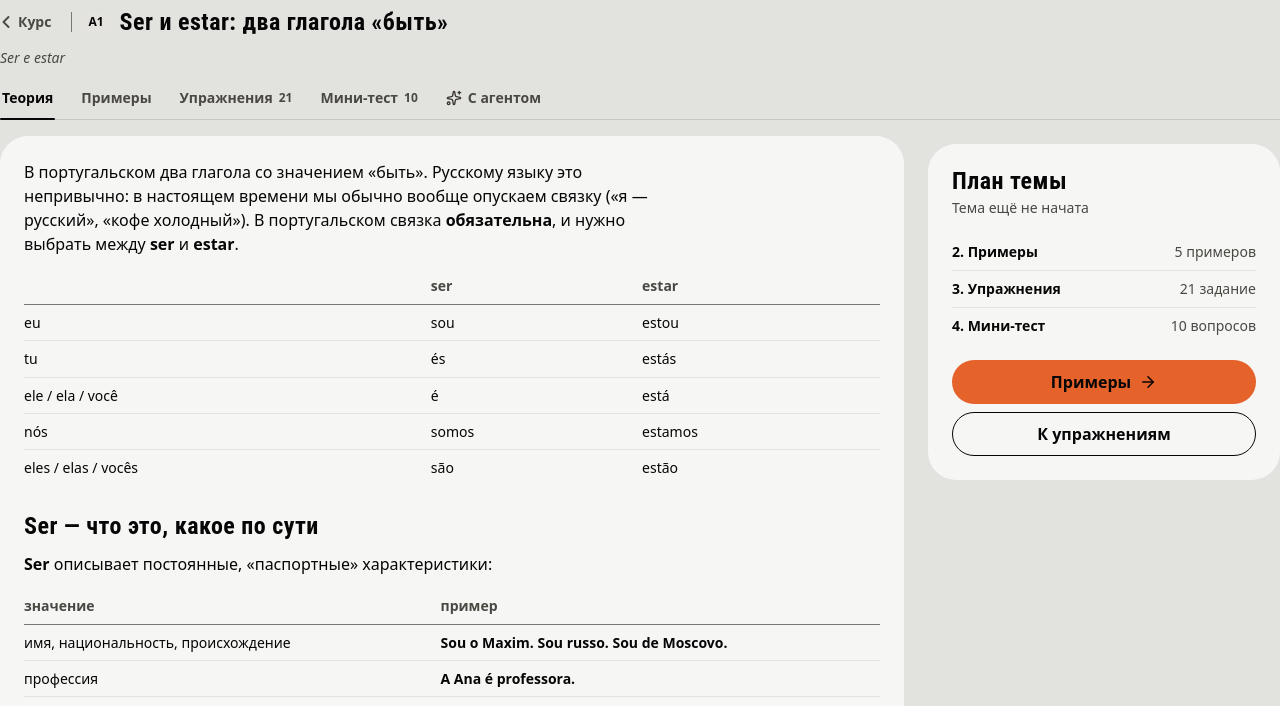
Test case: TopicPage: tabs and theory › switching tabs writes ?tab= (theory clears it); plan buttons navigate
Click the tab "Мини-тест 10". click: [369, 98]
box: [318,76,420,120]
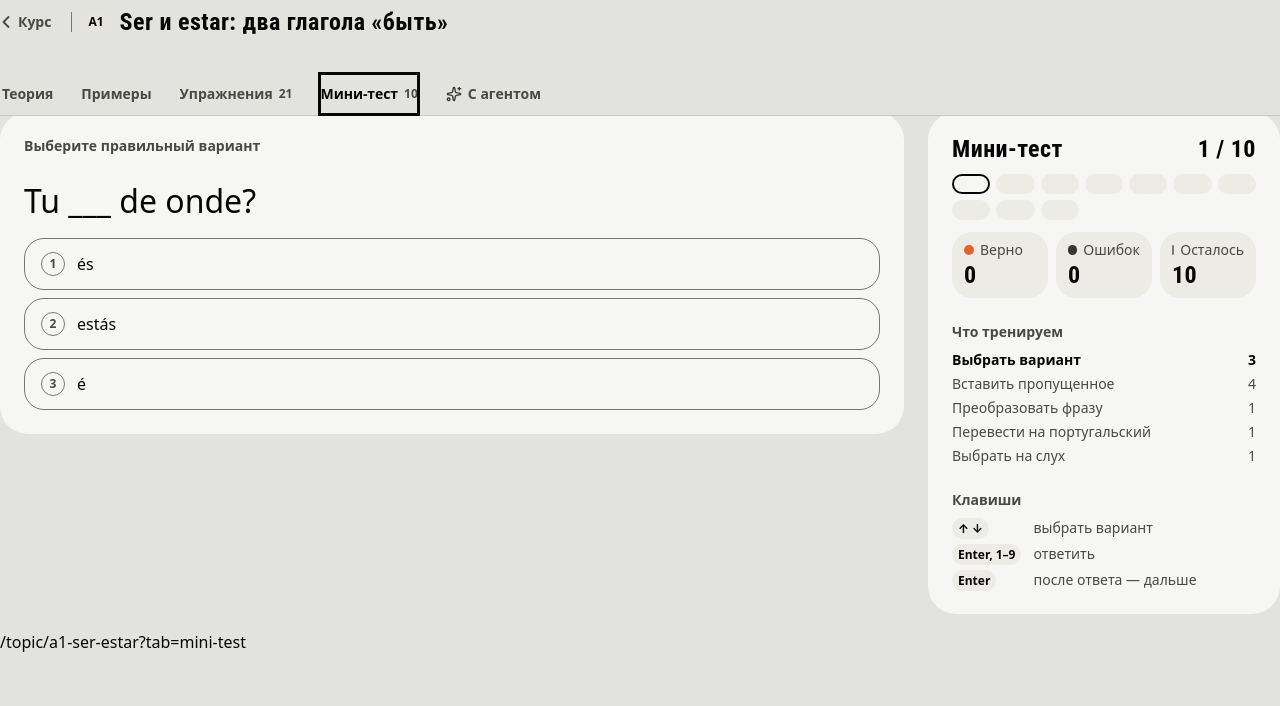
Now the text with test id "loc" reads "/topic/a1-ser-estar?tab=mini-test", box [0,631,246,653]
Click the tab "Теория". click: [28, 94]
box: [0,72,55,116]
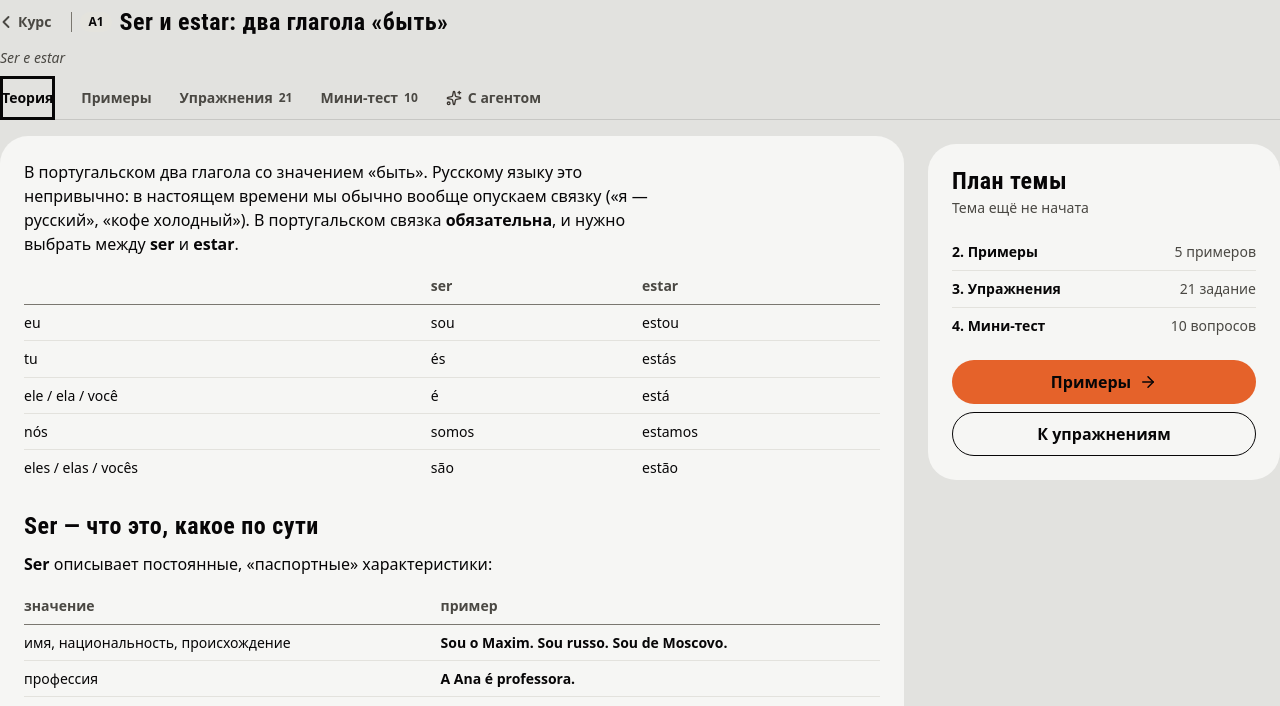
Click the button "К упражнениям". click: [1104, 434]
box: [952,412,1256,456]
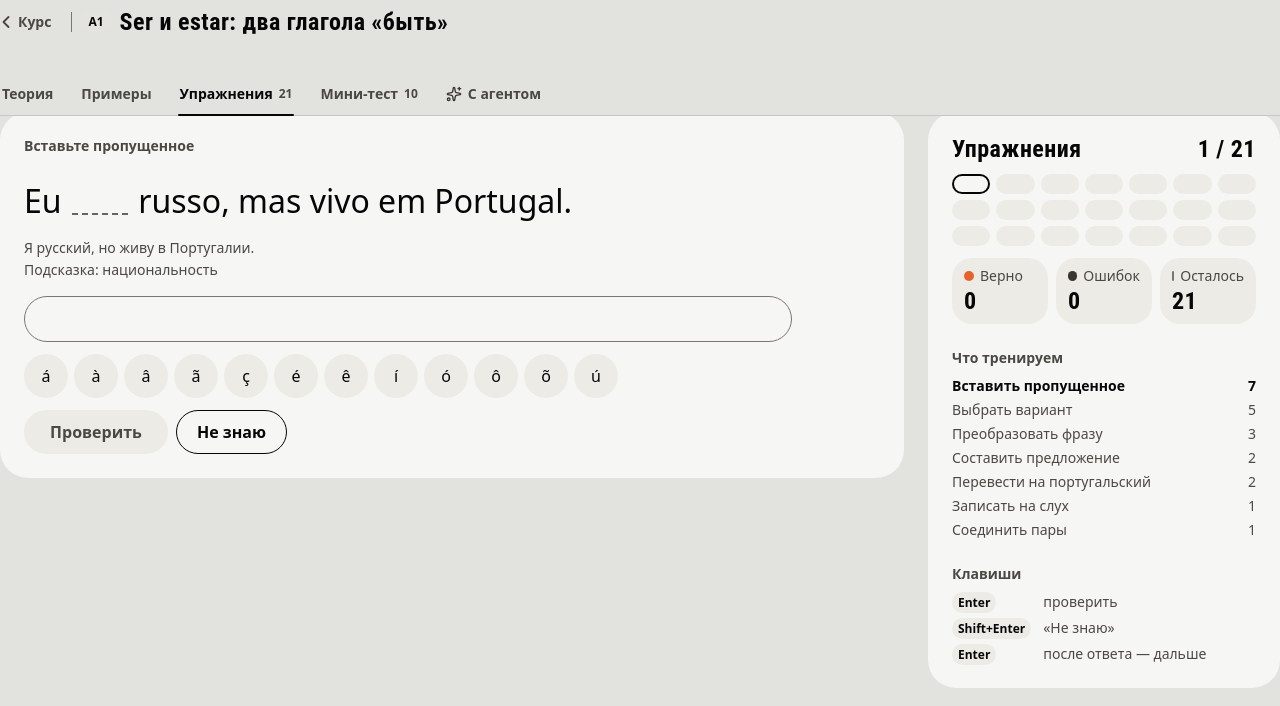
Click the tab "Теория". click: [28, 94]
box: [0,72,55,116]
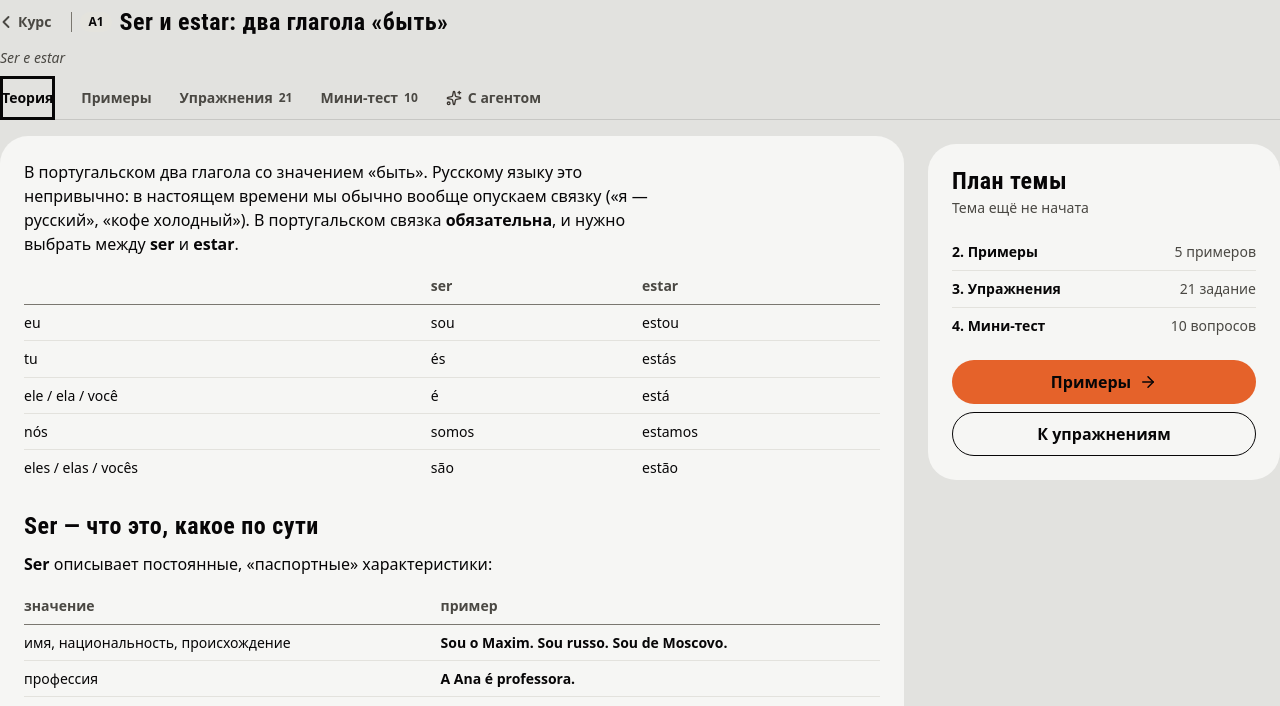
Click the button "Примеры". click: [1104, 382]
box: [952,360,1256,404]
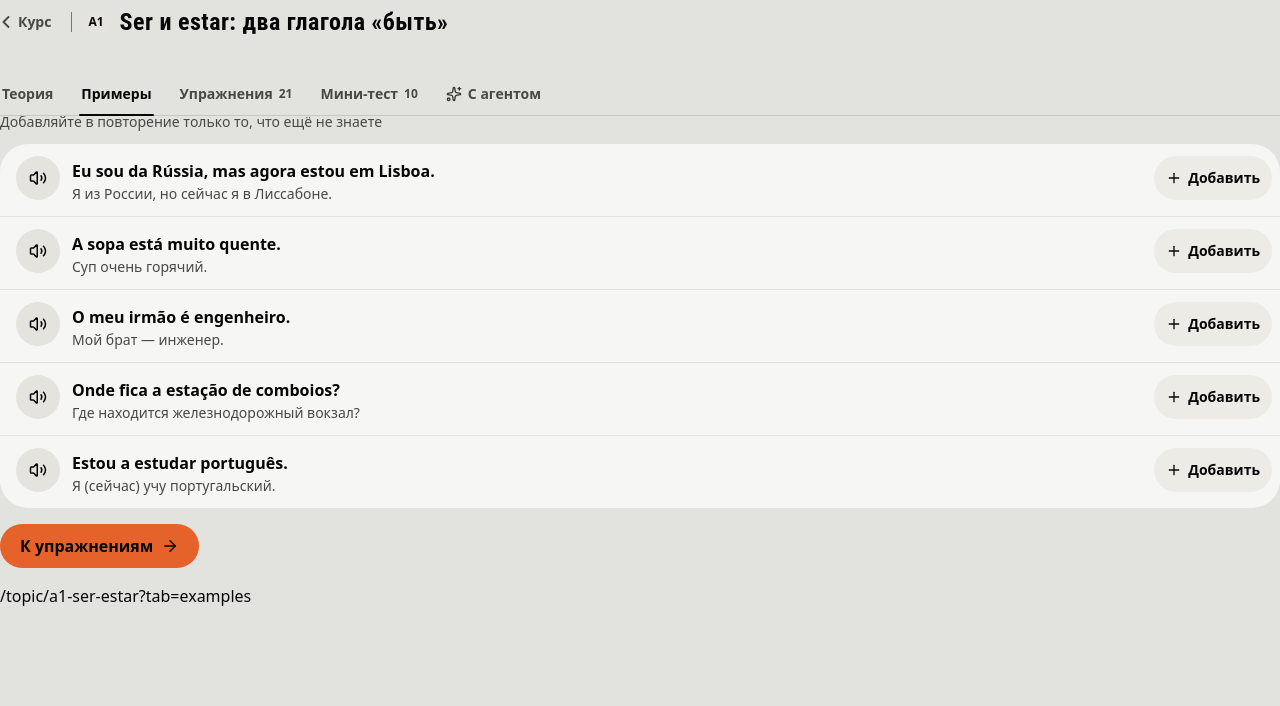
Now the text with test id "loc" reads "/topic/a1-ser-estar?tab=examples", box [0,585,251,607]
